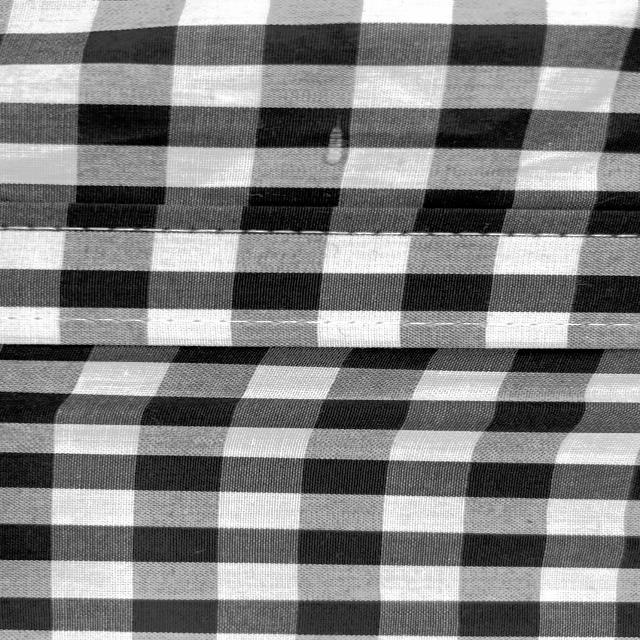Foreign_yarn: (300, 117, 371, 173)
